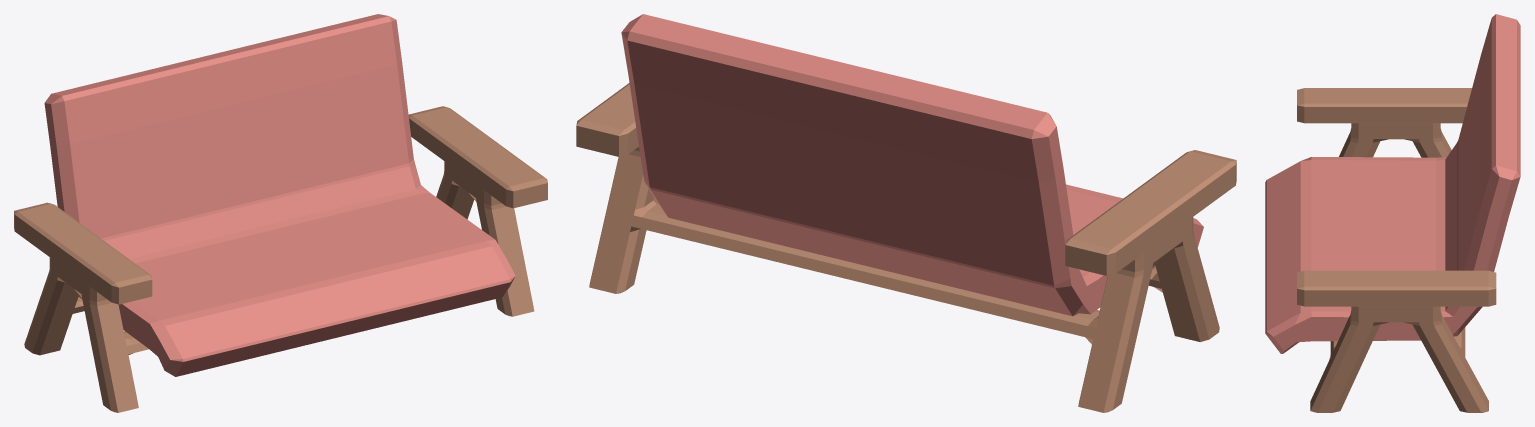
The model's file is chair_mid_garden.fbx.
3 renders of one model, left to right at view 1: azimuth 30°, elevation 25°; view 2: azimuth 150°, elevation 25°; view 3: azimuth 270°, elevation 25°, orthographic. The views are drawn at different scales.
Visible parts, largest first — view 1: chair_mid_garden, Cube.005; view 2: chair_mid_garden, Cube.005; view 3: chair_mid_garden, Cube.005.
Part boxes in pixels (bbox=[...]): chair_mid_garden: bbox=[44, 14, 515, 376]; Cube.005: bbox=[14, 106, 547, 412]; chair_mid_garden: bbox=[621, 14, 1203, 316]; Cube.005: bbox=[576, 83, 1236, 412]; chair_mid_garden: bbox=[1265, 14, 1520, 353]; Cube.005: bbox=[1297, 88, 1496, 412].
Size of the model in its own units: 174 by 90.6 by 92.93.
